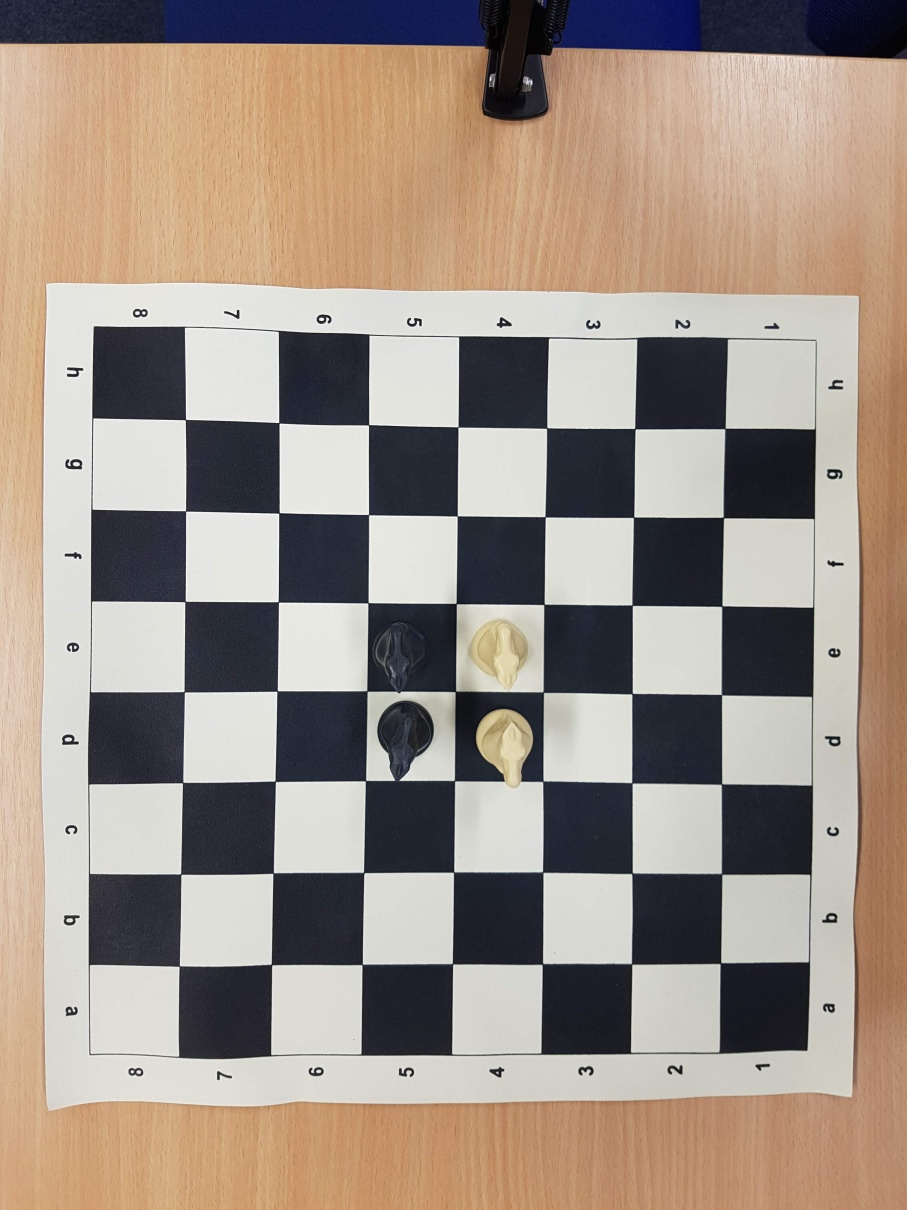chess_knight: (478, 711, 534, 790), (378, 701, 432, 781), (471, 620, 529, 689), (373, 621, 427, 693)
